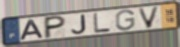A: (19, 18, 46, 41)
G: (115, 9, 136, 32)
J: (70, 14, 88, 35)
L: (92, 13, 112, 34)
P: (43, 15, 68, 40)
V: (136, 6, 161, 30)
